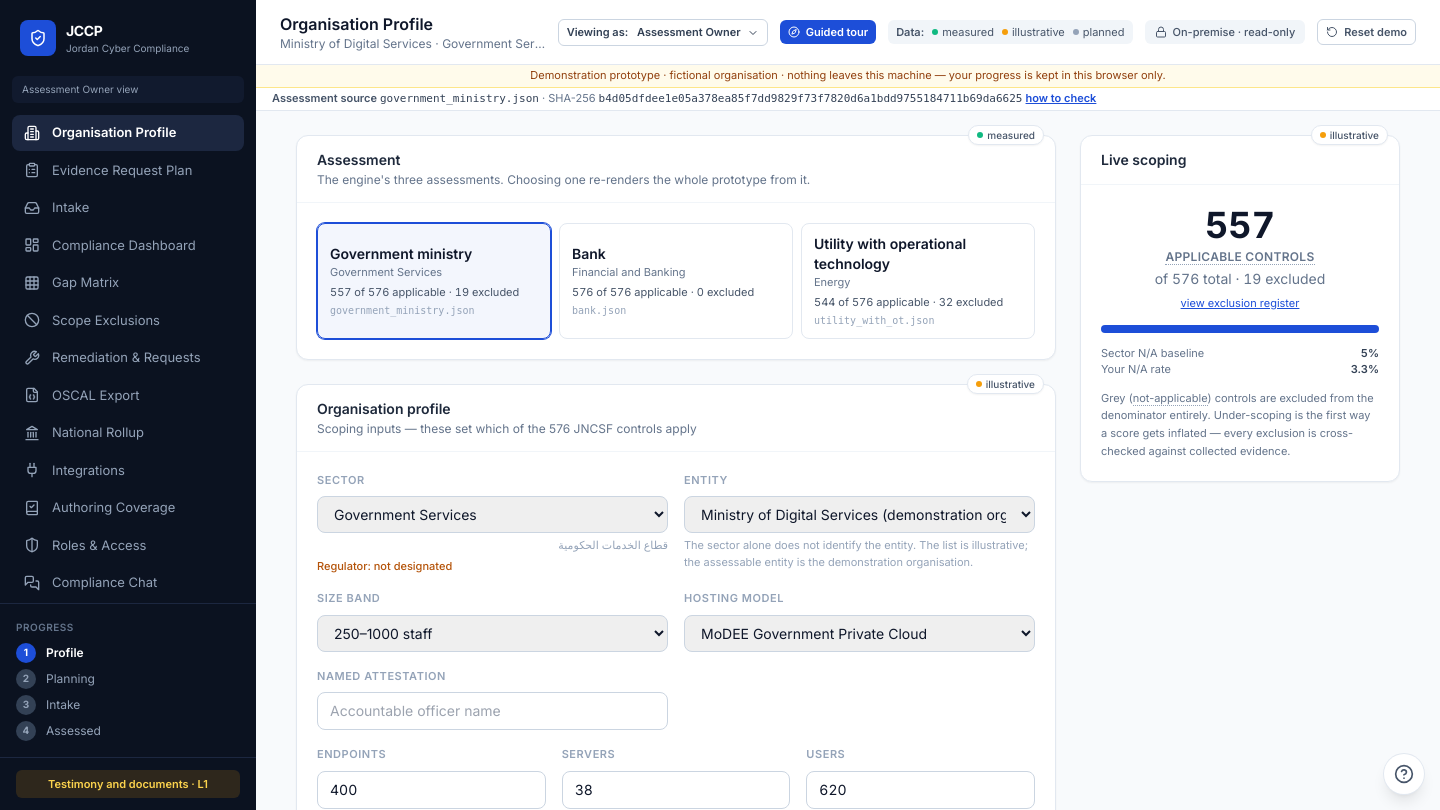
choosing an assessment on the Profile screen changes the whole app › selecting utility moves the source stamp, the applicable count, the register and the interval
Expected: the text with test id "source-file" reads "government_ministry.json", [380,92,539,105]
Click the radio button that starts with "Utility with operational technology": (918,280) [801,222,1035,338]
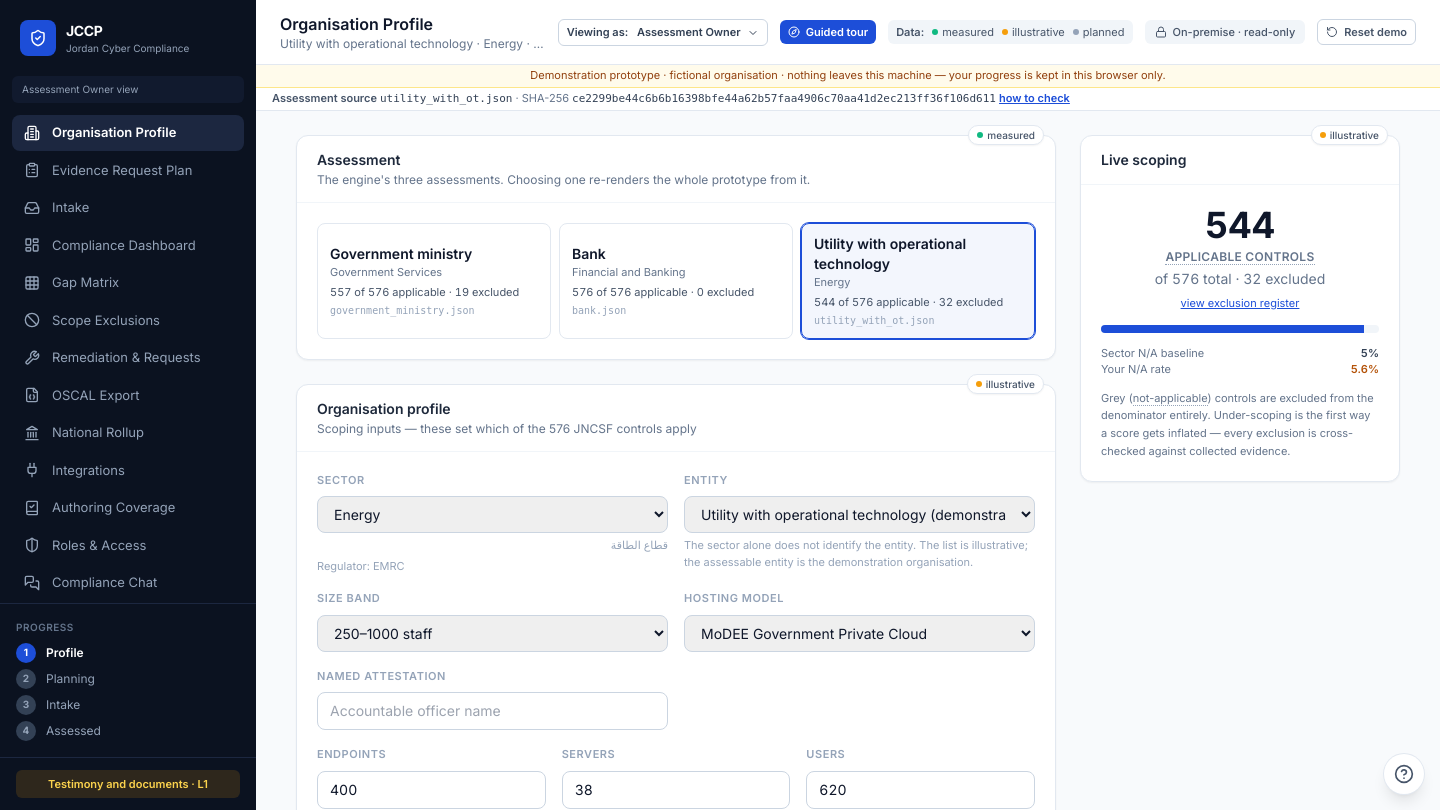
Now the text with test id "source-file" reads "utility_with_ot.json", box [380,92,512,105]
Now the text with test id "source-sha256" reads "ce2299be44c6b6b16398bfe44a62b57faa4906c70aa41d2ec213ff36f106d611", box [572,92,996,105]
Now the text with test id "source-sha256" no longer shows "b4d05dfdee1e05a378ea85f7dd9829f73f7820d6a1bdd9755184711b69da6625"
